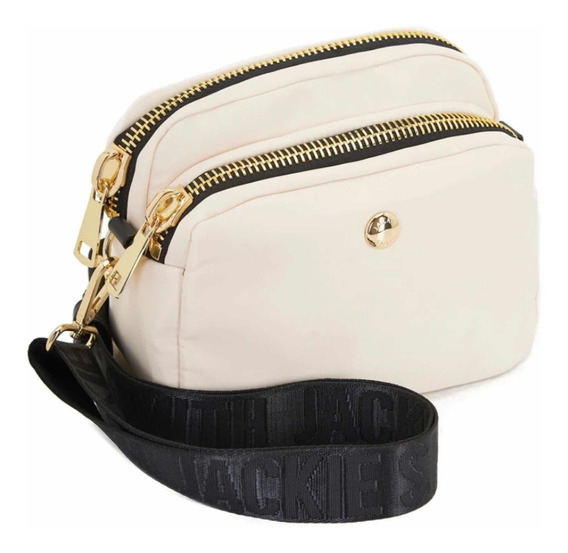cartera: (79, 28, 541, 399)
